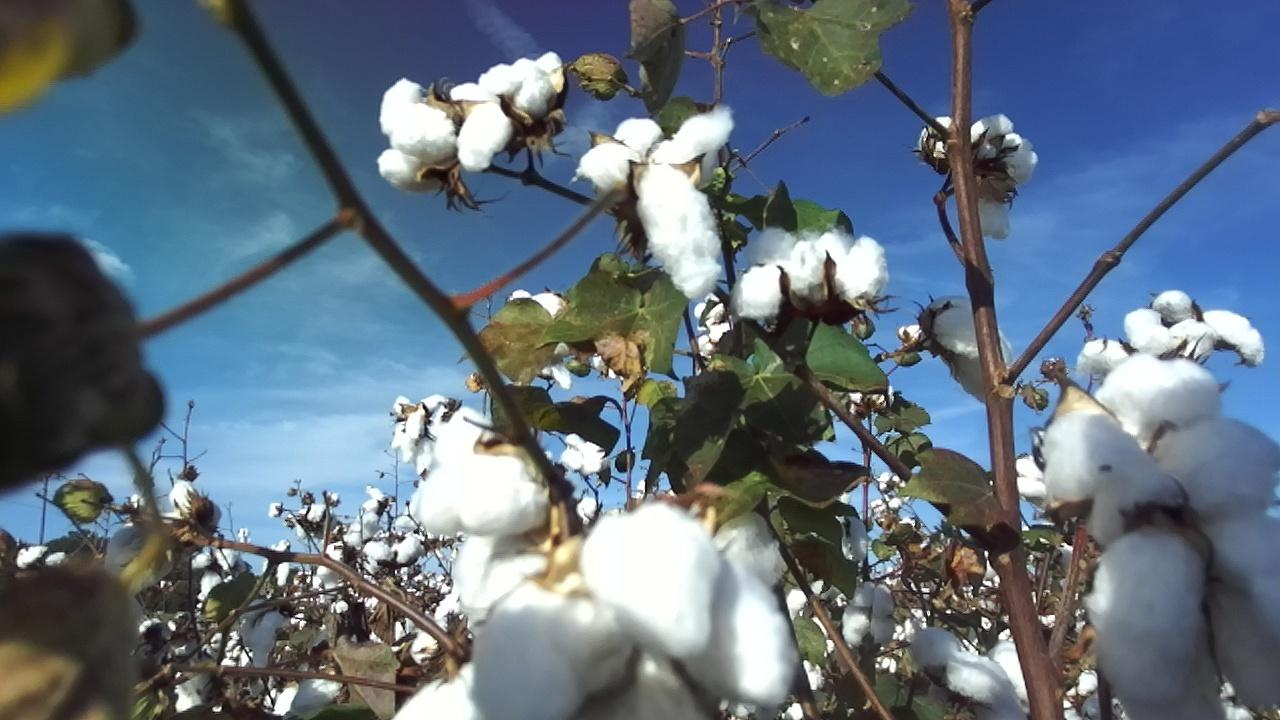cotton_ready: (472, 504, 799, 720), (1044, 357, 1280, 538), (1084, 517, 1280, 720), (577, 107, 739, 303), (409, 450, 550, 614), (1077, 289, 1265, 374), (919, 117, 1038, 242), (732, 232, 889, 319), (451, 50, 560, 169), (912, 627, 1026, 720), (392, 394, 493, 477), (379, 82, 459, 185), (688, 509, 787, 589), (510, 289, 571, 389), (930, 297, 1009, 370), (395, 657, 479, 720), (841, 582, 894, 642), (694, 292, 725, 353), (1016, 457, 1039, 498)
